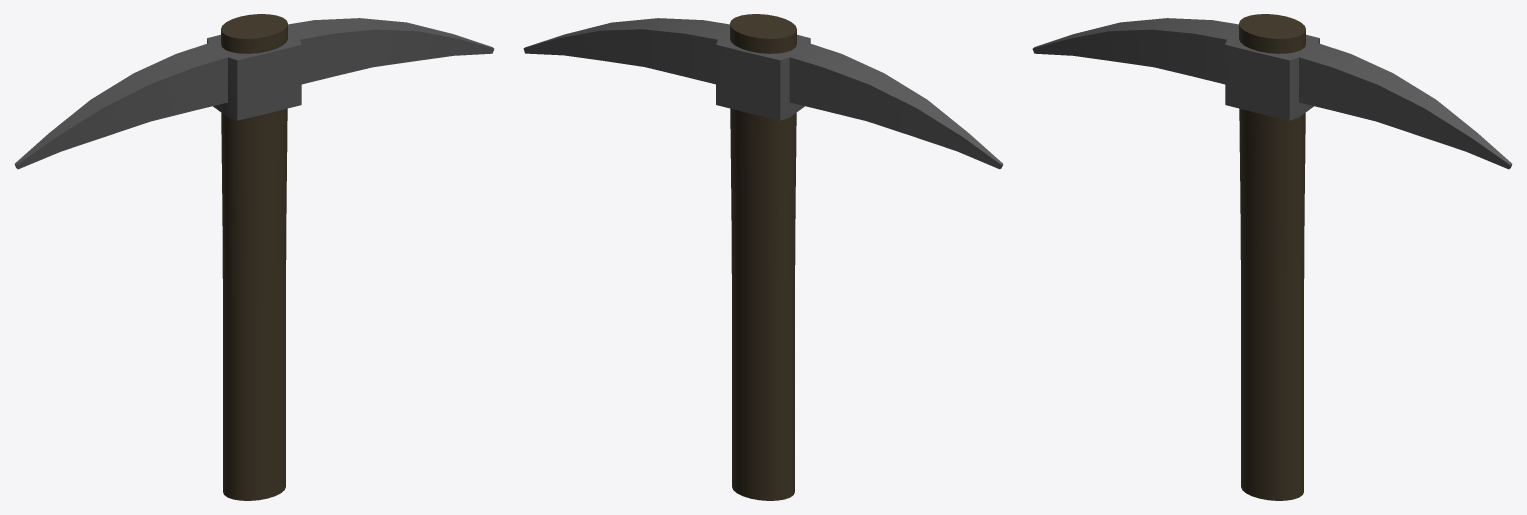
The model's file is pickaxe.glb.
3 views of the same model, side by side, from view 1: azimuth 30°, elevation 25°; view 2: azimuth 150°, elevation 25°; view 3: azimuth 330°, elevation 25° (orthographic).
Parts seen in each view (by area): view 1: Cylinder; view 2: Cylinder; view 3: Cylinder.
Part boxes in pixels (left/top/right/bottom): Cylinder: left=14, top=14, right=494, bottom=500; Cylinder: left=523, top=14, right=1003, bottom=500; Cylinder: left=1032, top=14, right=1512, bottom=500.
Size of the model in its own units: 1.49 by 1.38 by 0.167.
Materials: 1 (1 with a texture image).
